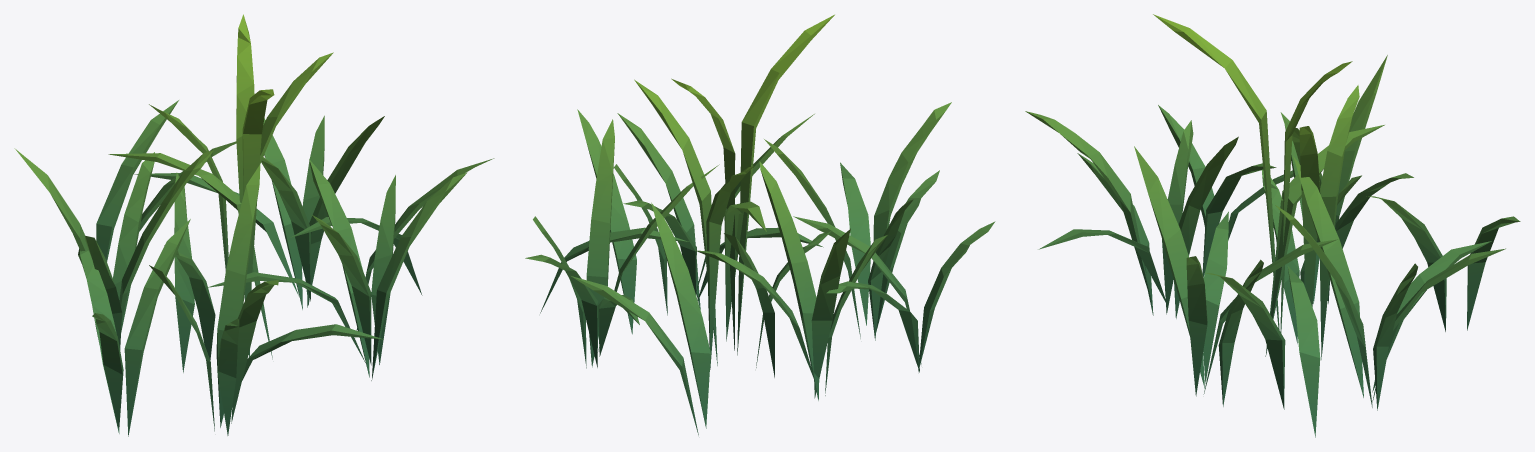
The model's file is ZLP_Grass_B_5.FBX.
The picture shows the model from 3 angles, left to right: view 1: azimuth 30°, elevation 25°; view 2: azimuth 150°, elevation 25°; view 3: azimuth 270°, elevation 25°; orthographic projection. The views are drawn at different scales.
Parts seen in each view (by area): view 1: ZLP_Grass_B_5; view 2: ZLP_Grass_B_5; view 3: ZLP_Grass_B_5.
Boxes of the visible parts, <box> form: ZLP_Grass_B_5: <box>14,14,494,436</box>; ZLP_Grass_B_5: <box>525,14,995,435</box>; ZLP_Grass_B_5: <box>1025,14,1520,437</box>.
Bounding box in the file's own units: 213 × 159 × 221.
